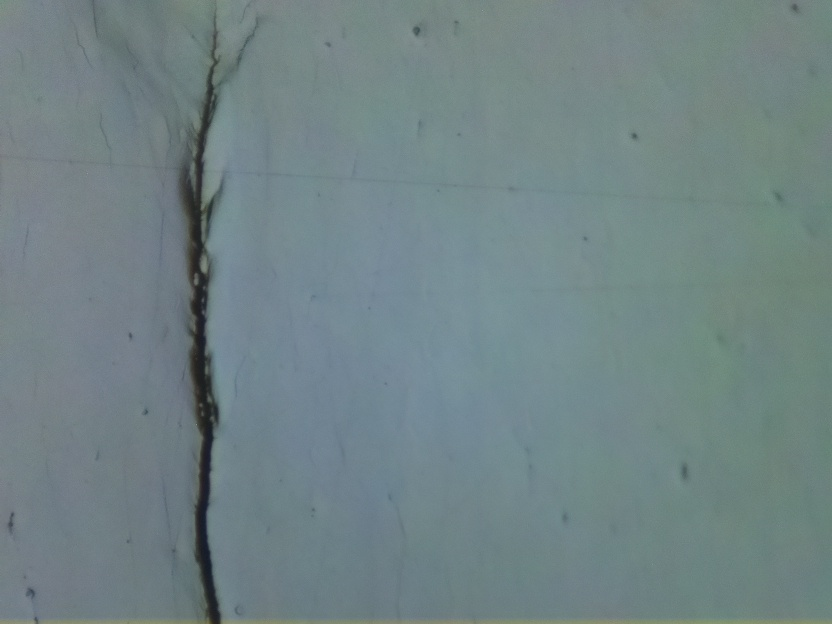crack: (182, 16, 230, 623)
